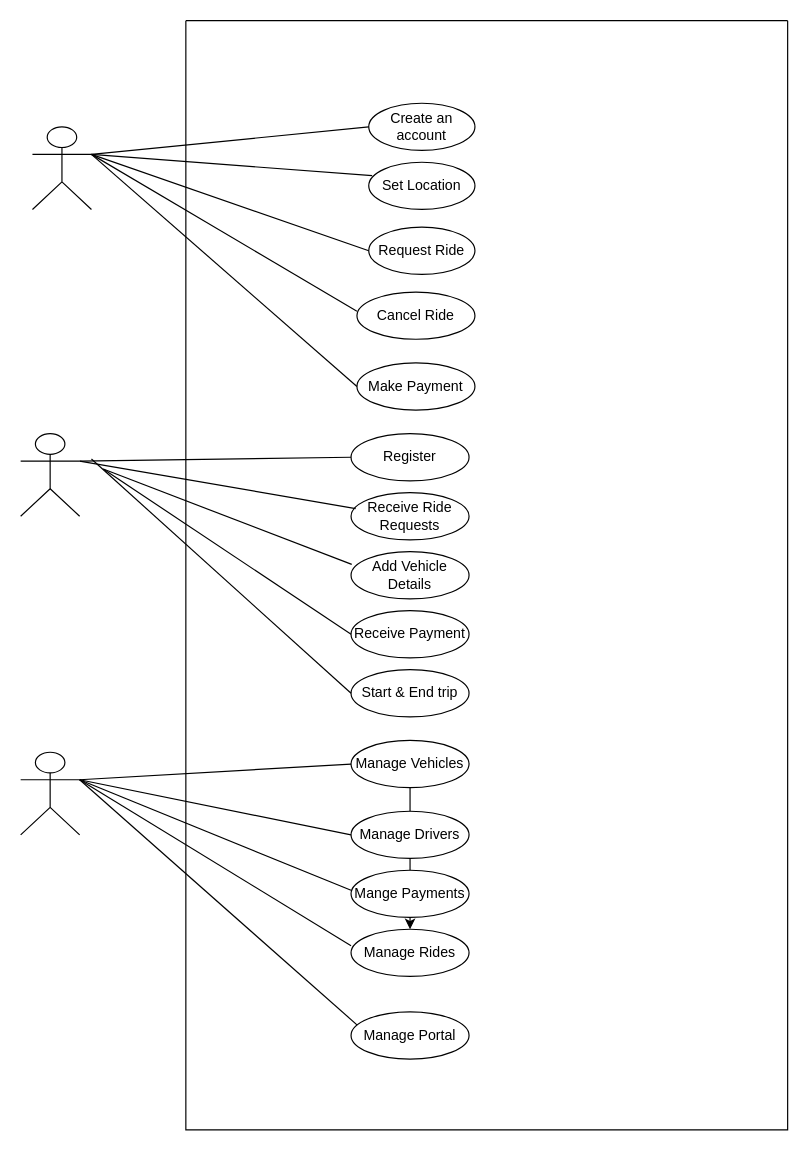
This 808x1151 diagram has some shape labels left out. The centre of each missing label's shape, as x and y in pixels:
Admin: pixel 49 793
Driver: pixel 49 474
Rider: pixel 61 167
